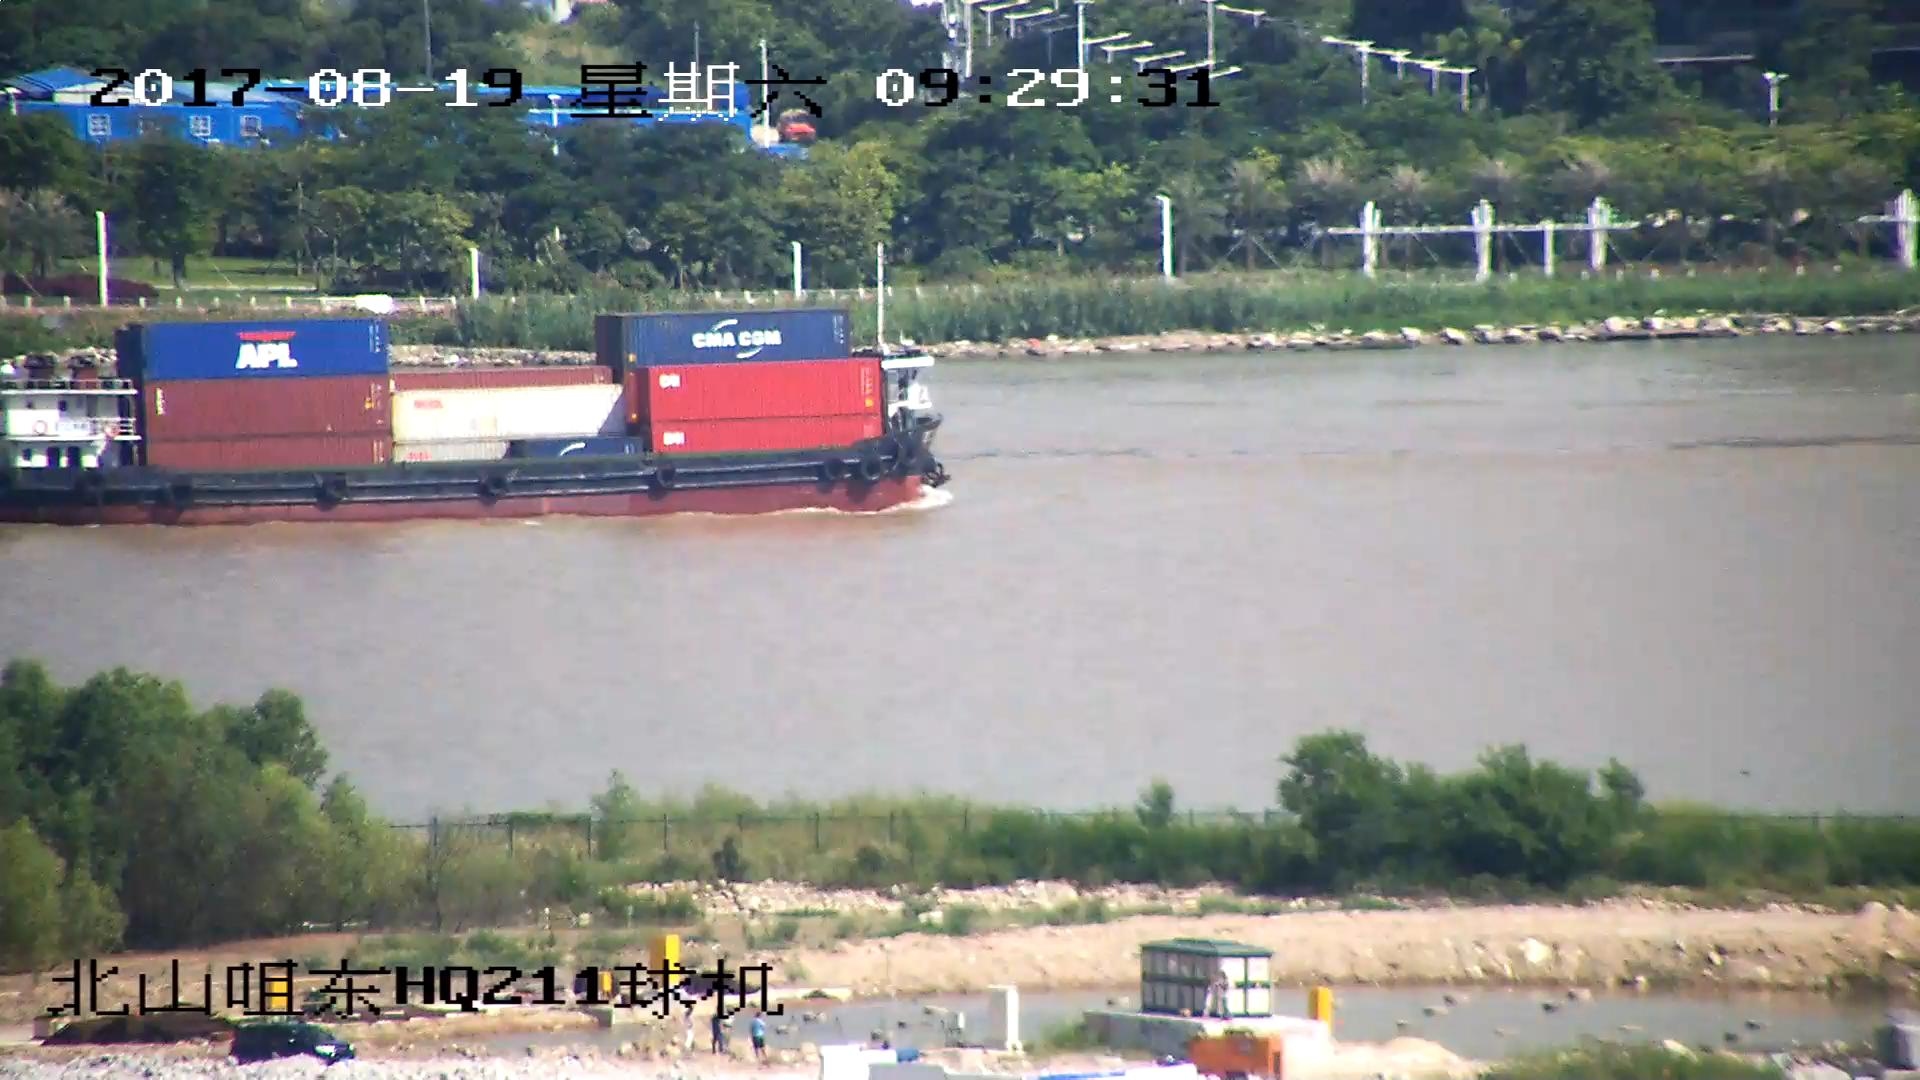container ship: (1, 238, 952, 527)
